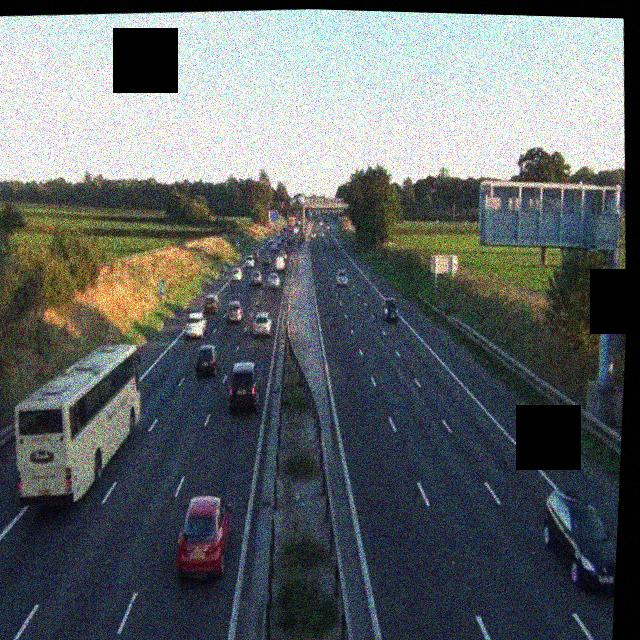bus: (7, 338, 148, 508)
car: (538, 488, 619, 596), (173, 493, 237, 582), (227, 362, 263, 413), (194, 343, 221, 376), (183, 313, 207, 341), (253, 310, 272, 337), (381, 297, 399, 324), (224, 300, 244, 323), (203, 294, 219, 316), (335, 268, 349, 287), (267, 272, 281, 290), (250, 269, 263, 287), (274, 254, 286, 272), (230, 267, 243, 282), (245, 255, 255, 268), (285, 241, 294, 252)
